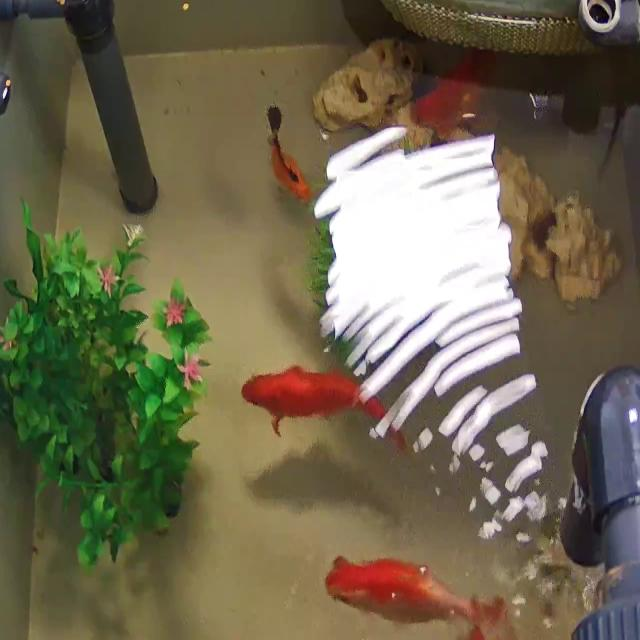fish: (323, 545, 489, 633), (242, 362, 361, 436), (411, 54, 491, 136), (266, 105, 313, 209)
